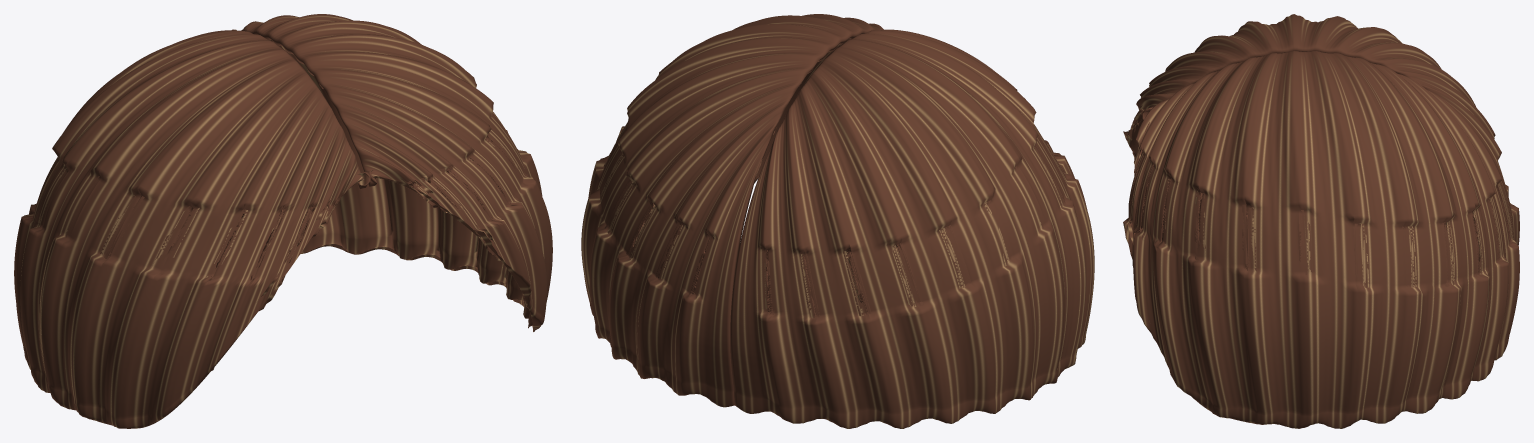
The model's file is Highlights-d250cf447480252-hair.glb.
The picture shows the model from 3 angles, left to right: view 1: azimuth 30°, elevation 25°; view 2: azimuth 150°, elevation 25°; view 3: azimuth 270°, elevation 25°; orthographic projection. The views are drawn at different scales.
Parts seen in each view (by area): view 1: 226 hair / Hair252 / flowing sculpt middle.001; view 2: 226 hair / Hair252 / flowing sculpt middle.001; view 3: 226 hair / Hair252 / flowing sculpt middle.001.
Boxes of the visible parts, <box> form: 226 hair / Hair252 / flowing sculpt middle.001: <box>14,14,552,428</box>; 226 hair / Hair252 / flowing sculpt middle.001: <box>581,14,1094,428</box>; 226 hair / Hair252 / flowing sculpt middle.001: <box>1123,14,1519,428</box>.
Bounding box in the file's own units: 1.06 × 0.6587 × 0.8322.
1 material, 1 textured.
